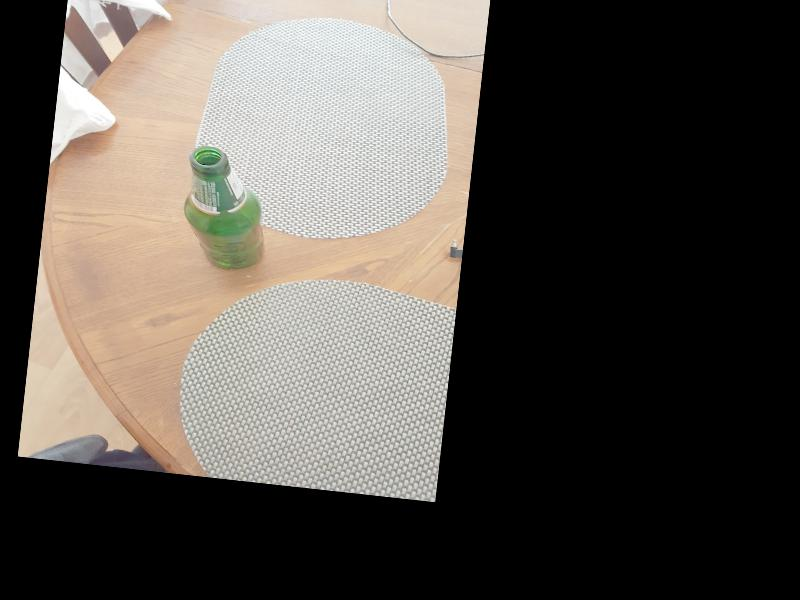Beer: (178, 144, 272, 274)
